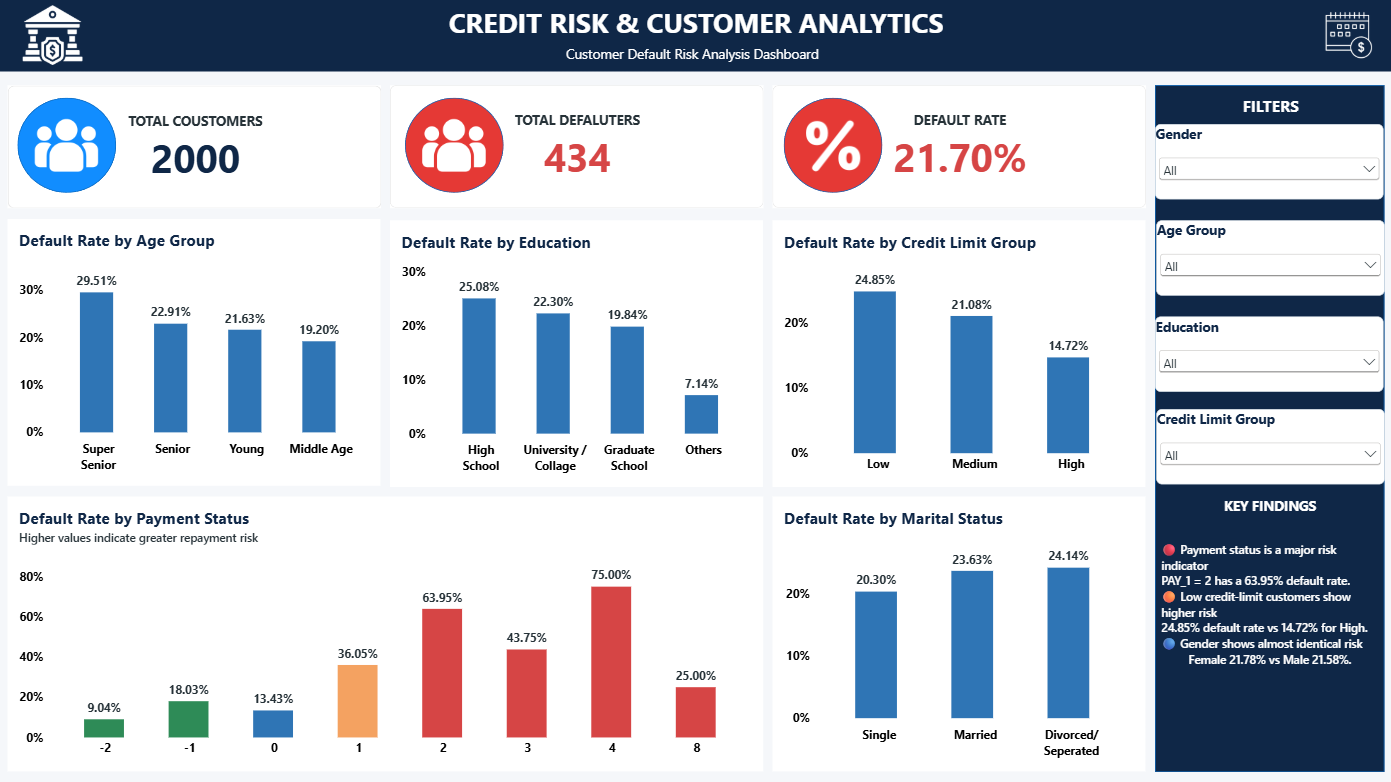

This screenshot's page, from the dashboard's own definition file:
{"tool":"powerbi","page":{"name":"Page 2","canvas":[1920,1080],"ordinal":0},"visuals":[{"type":"image","box":[24,8,97,82],"z":0,"group":"g4"},{"type":"image","box":[1812,8,97,82],"z":0,"group":"g5"},{"type":"shape","box":[1593.7,118.2,316.4,947.4],"z":0},{"type":"shape","box":[24,137,136,131],"z":0,"group":"g2"},{"type":"shape","box":[558,137,136,131],"z":0,"group":"g1"},{"type":"shape","box":[1082,137,136,131],"z":0,"group":"g3"},{"type":"image","box":[1812,9,97,82],"z":1000},{"type":"image","box":[589,133,73,44],"z":1000},{"type":"image","box":[1078,137,143,133],"z":1000,"group":"g3"},{"type":"image","box":[40,154,104,97],"z":1000,"group":"g2"},{"type":"image","box":[574,154,104,97],"z":1000,"group":"g1"},{"type":"shape","box":[0,0,1920,100],"z":1500},{"type":"textbox","box":[9.5,7.6,1910.1,72.4],"z":2000},{"type":"textbox","box":[0,62.9,1910.1,36.2],"z":4000},{"type":"cardVisual","fields":{"Data":["CountNonNull(Cleaned_Data.ID)"]},"box":[9.5,118.2,515,169.7],"z":5000},{"type":"cardVisual","fields":{"Data":["CountNonNull(Cleaned_Data.ID)"]},"box":[537.6,118.2,515,169.7],"z":6000},{"type":"cardVisual","fields":{"Data":["Cleaned_Data.Default Rate"]},"box":[1065.6,118.2,515,169.7],"z":7000},{"type":"clusteredColumnChart","title":"Default Rate by Age Group","fields":{"Category":["Cleaned_Data.AGE GROUP"],"Y":["Cleaned_Data.Default Rate"]},"box":[9.5,303.1,514.7,367.9],"z":8000},{"type":"clusteredColumnChart","title":"Default Rate by Education","fields":{"Y":["Cleaned_Data.Default Rate"],"Category":["Cleaned_Data.EDUCATION"]},"box":[537.6,305,514.7,367.9],"z":9000},{"type":"clusteredColumnChart","title":"Default Rate by Credit Limit Group","fields":{"Y":["Cleaned_Data.Default Rate"],"Category":["Cleaned_Data.LIMIT_BAL_GROUP"]},"box":[1065.6,305,514.7,367.9],"z":10000},{"type":"clusteredColumnChart","title":"Default Rate by Payment Status","fields":{"Y":["Cleaned_Data.Default Rate"],"Category":["Cleaned_Data.PAY_1"]},"box":[9.5,686.3,1042.7,379.4],"z":11000},{"type":"clusteredColumnChart","title":"Default Rate by Marital Status","fields":{"Y":["Cleaned_Data.Default Rate"],"Category":["Cleaned_Data.MARRIAGE"]},"box":[1065.6,686.3,514.7,379.4],"z":12000},{"type":"textbox","box":[1603.2,133.4,299.3,38.1],"z":13000},{"type":"slicer","title":"Gender","fields":{"Values":["Cleaned_Data.SEX"]},"box":[1593.8,172.5,315,103.8],"z":14000},{"type":"slicer","title":"Age Group","fields":{"Values":["Cleaned_Data.AGE GROUP"]},"box":[1595,305,315,103.8],"z":15000},{"type":"slicer","title":"Education","fields":{"Values":["Cleaned_Data.EDUCATION"]},"box":[1593.8,437.5,315,103.8],"z":16000},{"type":"slicer","title":"Credit Limit Group","fields":{"Values":["Cleaned_Data.LIMIT_BAL_GROUP"]},"box":[1595,566.2,315,103.8],"z":17000},{"type":"textbox","box":[1602.2,685.6,300,370],"z":18000},{"type":"group","id":"g1","title":"Group 1","box":[558,137,136,131],"z":19000},{"type":"group","id":"g2","title":"Group 2","box":[24,137,136,131],"z":20000},{"type":"group","id":"g3","title":"Group 1","box":[1078,137,143,133],"z":21000},{"type":"group","id":"g4","title":"Group 1","box":[24,8,97,82],"z":22000},{"type":"group","id":"g5","title":"Group 1","box":[1812,8,98,82],"z":22001}]}

Visuals, with their boxes in screenshot pixels (x1, y1, x2, y2), scaled from the page's 1920x1080 canvas onto the 1391x782 screenshot:
image: (17,6,88,65)
image: (1313,6,1383,65)
shape: (1155,86,1384,772)
shape: (17,99,116,194)
shape: (404,99,503,194)
shape: (784,99,882,194)
image: (1313,7,1383,66)
image: (427,96,480,128)
image: (781,99,885,196)
image: (29,112,104,182)
image: (416,112,491,182)
shape: (0,0,1390,72)
textbox: (7,6,1390,58)
textbox: (0,46,1384,72)
cardVisual - CountNonNull(Cleaned_Data.ID): (7,86,380,208)
cardVisual - CountNonNull(Cleaned_Data.ID): (389,86,763,208)
cardVisual - Cleaned_Data.Default Rate: (772,86,1145,208)
"Default Rate by Age Group" clusteredColumnChart: (7,219,380,486)
"Default Rate by Education" clusteredColumnChart: (389,221,762,487)
"Default Rate by Credit Limit Group" clusteredColumnChart: (772,221,1145,487)
"Default Rate by Payment Status" clusteredColumnChart: (7,497,762,772)
"Default Rate by Marital Status" clusteredColumnChart: (772,497,1145,772)
textbox: (1161,97,1378,124)
"Gender" slicer: (1155,125,1383,200)
"Age Group" slicer: (1156,221,1384,296)
"Education" slicer: (1155,317,1383,392)
"Credit Limit Group" slicer: (1156,410,1384,485)
textbox: (1161,496,1378,764)
"Group 1" group: (404,99,503,194)
"Group 2" group: (17,99,116,194)
"Group 1" group: (781,99,885,196)
"Group 1" group: (17,6,88,65)
"Group 1" group: (1313,6,1384,65)
